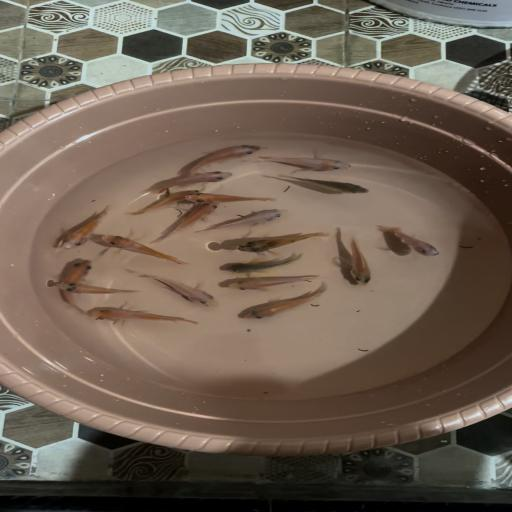nila: (234, 288, 336, 326), (127, 270, 226, 309), (100, 232, 194, 270), (50, 204, 113, 253), (80, 304, 203, 328), (157, 201, 225, 244), (374, 222, 448, 260), (274, 174, 380, 200), (183, 142, 268, 174), (49, 258, 96, 314), (236, 153, 366, 173), (141, 170, 241, 196), (235, 230, 333, 256), (198, 208, 290, 235), (127, 185, 200, 217), (221, 273, 320, 296), (179, 189, 278, 212), (214, 254, 312, 277), (54, 278, 144, 300), (343, 230, 376, 286)
